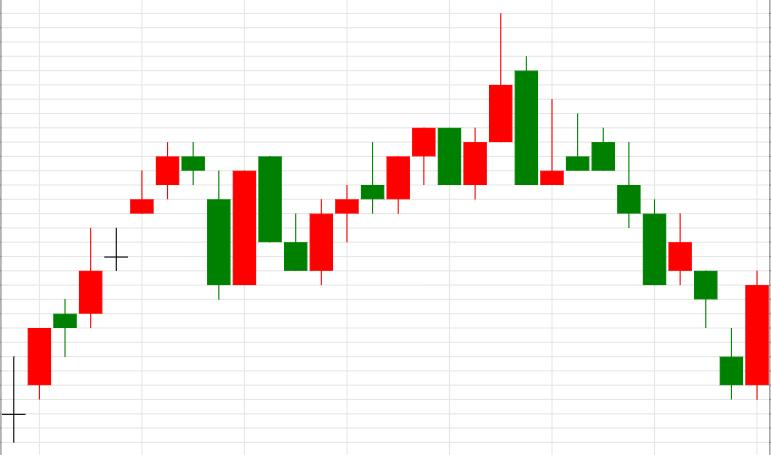bullish_engulfing_rise: (566, 113, 768, 401)
